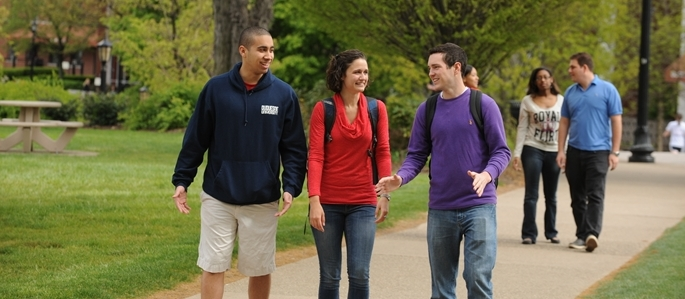Person: (171, 25, 308, 298), (373, 42, 514, 299), (309, 48, 392, 299), (555, 52, 623, 254), (513, 67, 567, 245)
